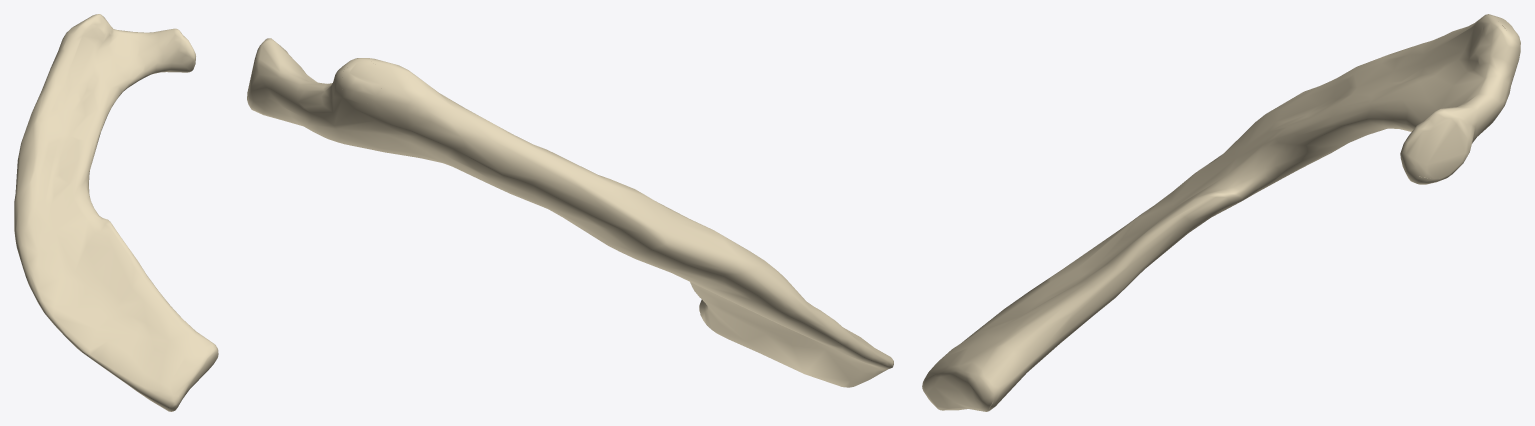
Rendered from esqueleto-first-rib-r.glb.
3 renders of one model, left to right at view 1: azimuth 30°, elevation 25°; view 2: azimuth 150°, elevation 25°; view 3: azimuth 270°, elevation 25°, orthographic. The views are drawn at different scales.
Visible parts, largest first — view 1: First rib.r; view 2: First rib.r; view 3: First rib.r.
Part boxes in pixels (<box>): First rib.r: <box>14,14,218,411</box>; First rib.r: <box>247,38,893,387</box>; First rib.r: <box>922,14,1520,411</box>.
Size of the model in its own units: 0.0549 by 0.0594 by 0.0707.
